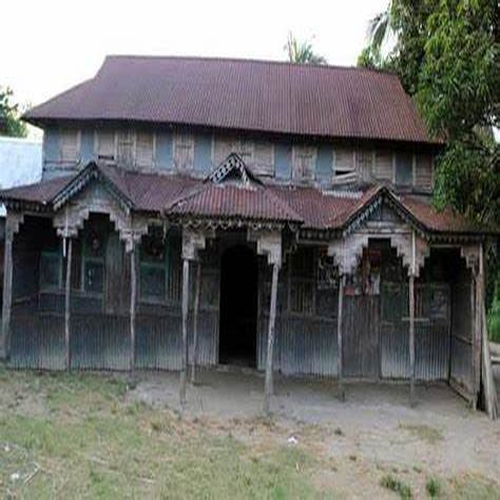Tin-shade House: (10, 49, 490, 390)
